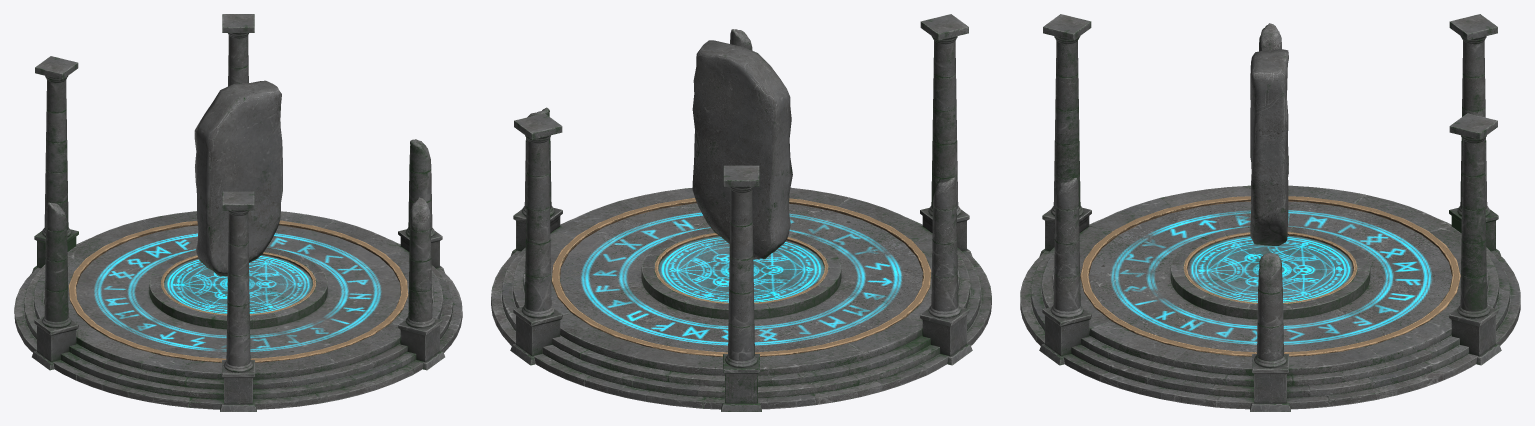
File: runestone.glb
3 renders of one model, left to right at view 1: azimuth 30°, elevation 25°; view 2: azimuth 150°, elevation 25°; view 3: azimuth 270°, elevation 25°, orthographic. The views are drawn at different scales.
Parts seen in each view (by area): view 1: plate_large, column (×6), stone, plate_small, base (×5), polySurface5 (×5), polySurface6 (×5), polySurface1 (×4), polySurface3 (×4), top (×3), polySurface7 (×2), polySurface18 (×2) (+6 smaller); view 2: plate_large, column (×5), stone, plate_small, base (×5), polySurface21 (×5), polySurface22 (×4), polySurface20 (×5), polySurface23 (×5), top (×3), polySurface5 (×3), polySurface1 (×2) (+6 smaller); view 3: plate_large, column (×6), plate_small, stone, base (×5), polySurface18 (×4), polySurface19 (×5), polySurface7 (×4), polySurface8 (×4), polySurface20 (×3), top (×3), polySurface6 (×3) (+6 smaller).
Boxes of the visible parts, left/top/right/bottom form: plate_large: left=68, top=220, right=408, bottom=362; column (×6): left=42, top=33, right=434, bottom=372; stone: left=194, top=80, right=282, bottom=276; plate_small: left=161, top=252, right=315, bottom=315; base (×5): left=32, top=229, right=444, bottom=411; polySurface5 (×5): left=76, top=307, right=407, bottom=407; polySurface6 (×5): left=189, top=270, right=442, bottom=409; polySurface1 (×4): left=14, top=289, right=292, bottom=389; polySurface3 (×4): left=24, top=337, right=373, bottom=386; top (×3): left=35, top=14, right=254, bottom=210; polySurface7 (×2): left=316, top=352, right=416, bottom=403; polySurface18 (×2): left=323, top=220, right=462, bottom=335; plate_large: left=551, top=198, right=931, bottom=356; column (×5): left=522, top=36, right=961, bottom=368; stone: left=692, top=40, right=792, bottom=259; plate_small: left=654, top=233, right=828, bottom=303; base (×5): left=510, top=207, right=972, bottom=411; polySurface21 (×5): left=502, top=303, right=913, bottom=387; polySurface22 (×4): left=584, top=293, right=862, bottom=408; polySurface20 (×5): left=491, top=267, right=800, bottom=386; polySurface23 (×5): left=703, top=259, right=969, bottom=409; top (×3): left=514, top=14, right=968, bottom=186; polySurface5 (×3): left=838, top=197, right=991, bottom=333; polySurface1 (×2): left=813, top=345, right=939, bottom=404; plate_large: left=1080, top=196, right=1460, bottom=356; column (×6): left=1050, top=23, right=1489, bottom=368; plate_small: left=1183, top=232, right=1357, bottom=303; stone: left=1250, top=49, right=1288, bottom=245; base (×5): left=1039, top=207, right=1501, bottom=411; polySurface18 (×4): left=1101, top=294, right=1380, bottom=407; polySurface19 (×5): left=1217, top=265, right=1499, bottom=409; polySurface7 (×4): left=1020, top=281, right=1344, bottom=386; polySurface8 (×4): left=1037, top=335, right=1431, bottom=383; polySurface20 (×3): left=1327, top=277, right=1488, bottom=406; top (×3): left=1043, top=14, right=1497, bottom=139; polySurface6 (×3): left=1052, top=276, right=1227, bottom=385.
Bounding box in the file's own units: 11.2 × 6.11 × 10.98.
2 materials, 2 textured.
